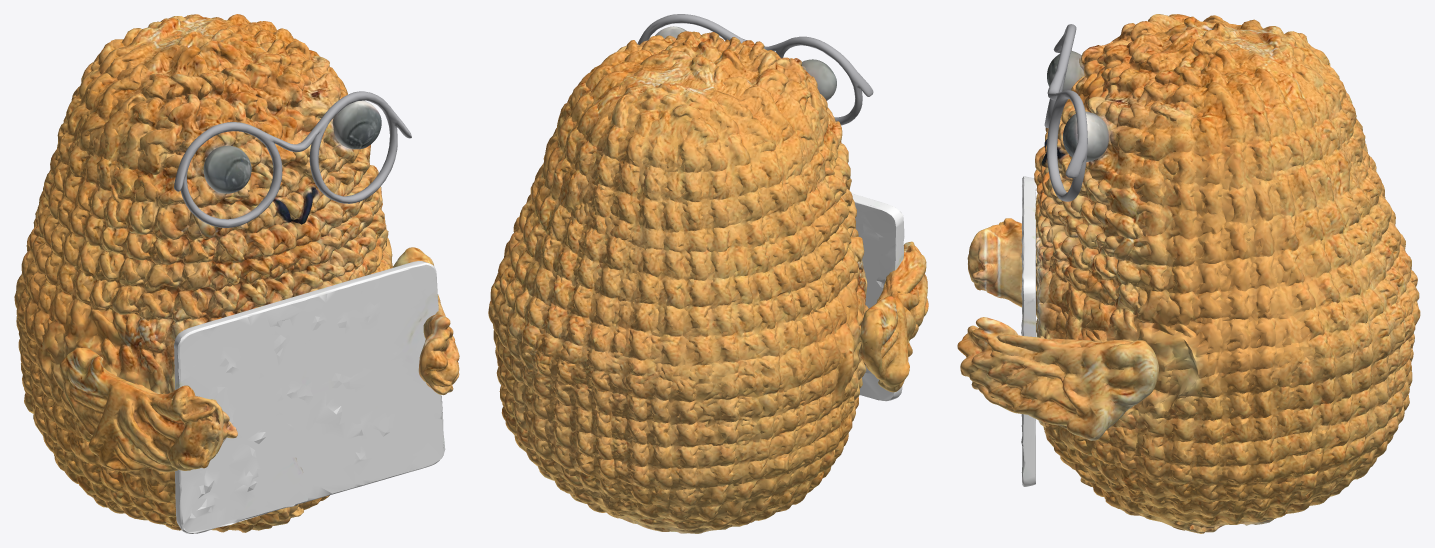
File: spud.glb
3 views of the same model, side by side, from view 1: azimuth 30°, elevation 25°; view 2: azimuth 150°, elevation 25°; view 3: azimuth 270°, elevation 25° (orthographic). The views are drawn at different scales.
Visible parts, largest first — view 1: body, card, handL, trim, handR, eyeR, eyeL; view 2: body, handL, card, trim, eyeL; view 3: body, handR, handL, trim, card, eyeR, eyeL.
Part boxes in pixels (left/top/right/bottom): body: left=14, top=14, right=392, bottom=532; card: left=174, top=261, right=445, bottom=533; handL: left=59, top=347, right=237, bottom=472; trim: left=174, top=91, right=411, bottom=227; handR: left=392, top=247, right=459, bottom=395; eyeR: left=332, top=100, right=381, bottom=149; eyeL: left=203, top=145, right=251, bottom=193; body: left=488, top=31, right=868, bottom=533; handL: left=859, top=241, right=928, bottom=392; card: left=851, top=193, right=904, bottom=401; trim: left=637, top=14, right=873, bottom=125; eyeL: left=802, top=59, right=836, bottom=100; body: left=1034, top=14, right=1420, bottom=533; handR: left=957, top=317, right=1158, bottom=440; handL: left=967, top=218, right=1036, bottom=307; trim: left=1044, top=24, right=1087, bottom=201; card: left=1021, top=176, right=1035, bottom=486; eyeR: left=1063, top=111, right=1109, bottom=161; eyeL: left=1047, top=50, right=1084, bottom=91.
Bounding box in the file's own units: 1.47 × 1.9 × 1.66.
7 materials, 6 textured.
